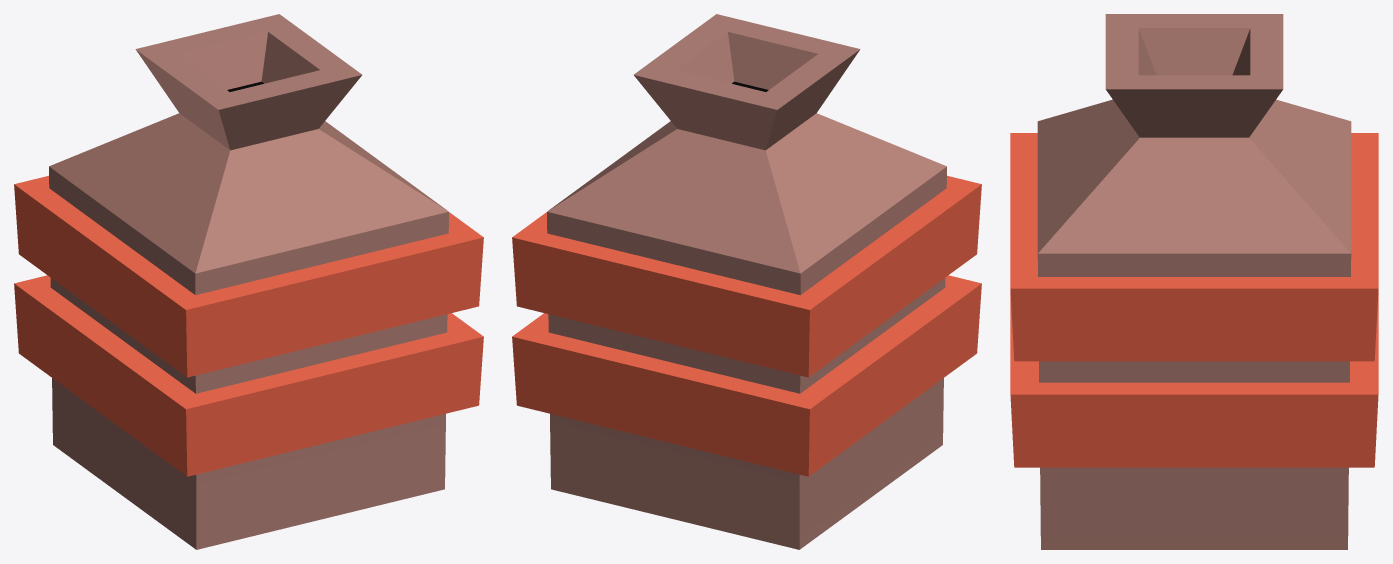
Rendered from Urn 04.FBX.
3 views of the same model, side by side, from view 1: azimuth 30°, elevation 25°; view 2: azimuth 150°, elevation 25°; view 3: azimuth 270°, elevation 25° (orthographic). The views are drawn at different scales.
Visible parts, largest first — view 1: Urn 04; view 2: Urn 04; view 3: Urn 04.
Part boxes in pixels (box(x1,y1,x2,y2)): Urn 04: box(14, 14, 483, 549); Urn 04: box(512, 14, 981, 549); Urn 04: box(1010, 14, 1378, 549).
Size of the model in its own units: 32.75 by 42.57 by 32.75.
